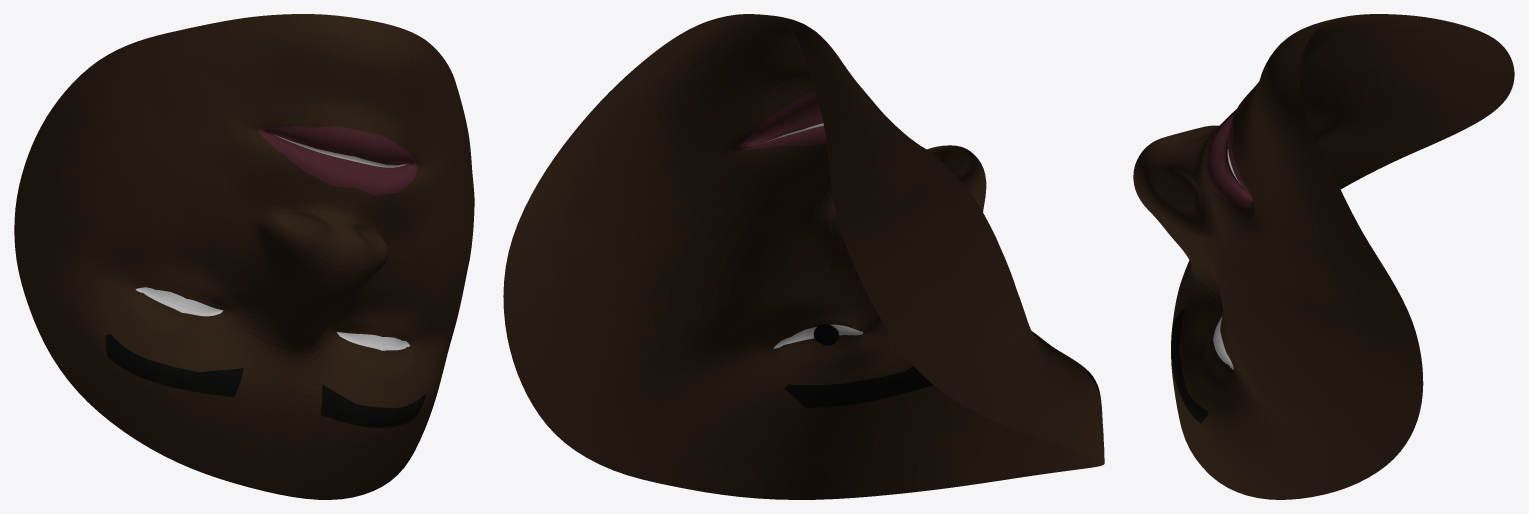
File: frame_00278.obj
The picture shows the model from 3 angles, left to right: view 1: azimuth 30°, elevation 25°; view 2: azimuth 150°, elevation 25°; view 3: azimuth 270°, elevation 25°; orthographic projection. The views are drawn at different scales.
Visible parts, largest first — view 1: face_mesh_subdivided; view 2: face_mesh_subdivided; view 3: face_mesh_subdivided.
Part boxes in pixels (bbox=[...]): face_mesh_subdivided: bbox=[14, 14, 474, 499]; face_mesh_subdivided: bbox=[503, 14, 1104, 499]; face_mesh_subdivided: bbox=[1133, 14, 1514, 499].
Size of the model in its own units: 0.5548 by 0.5272 by 0.4103.
